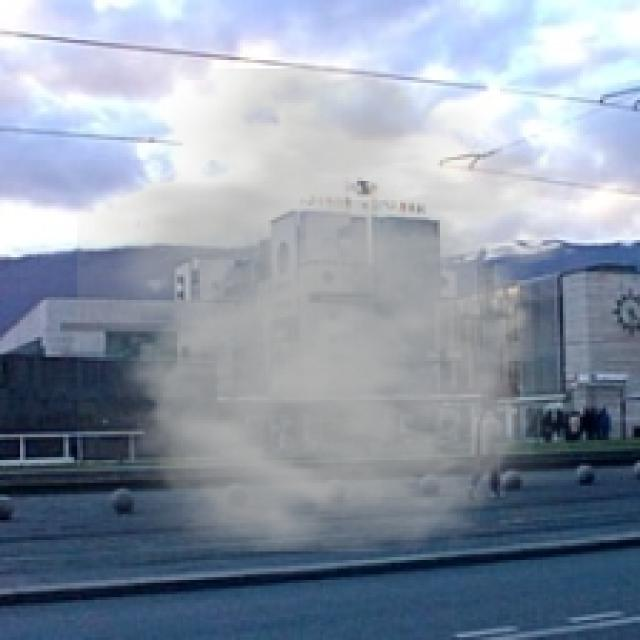smoke: (77, 68, 629, 583)
